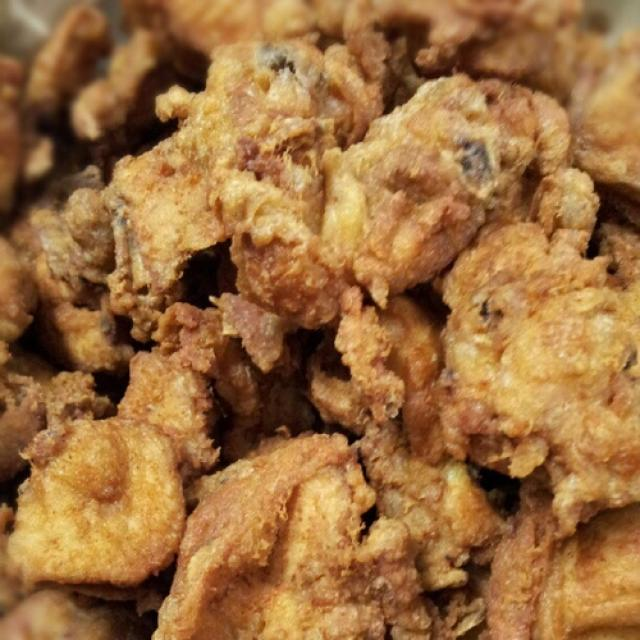鸡肉料理 含炸鸡: (15, 23, 612, 616)
